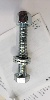FinishedAssembly: (12, 9, 35, 85)
